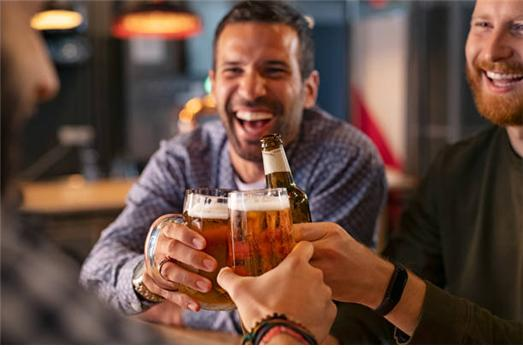alcohol: (182, 190, 244, 311), (228, 187, 301, 279), (263, 138, 313, 237)
